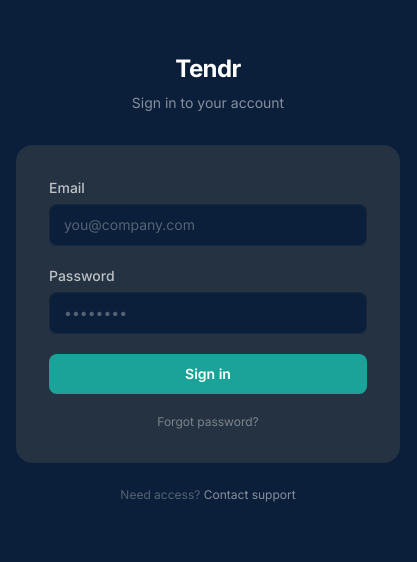
LoginPage › shows a generic error and re-enables the button when signInWithPassword throws
In the field labelled "Email": (208, 225) [49,204,367,246], type "admin@example.com"
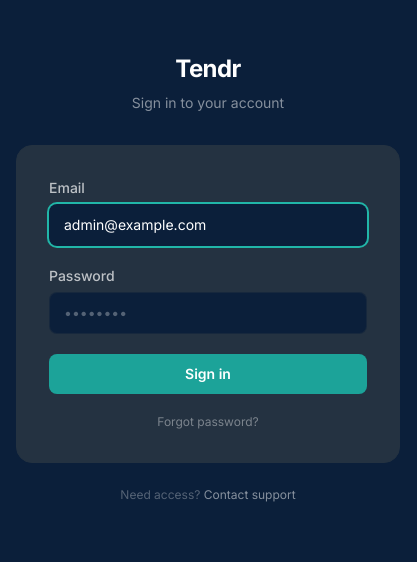
In the password field labelled "Password": (208, 313) [49,292,367,334], type "password123"
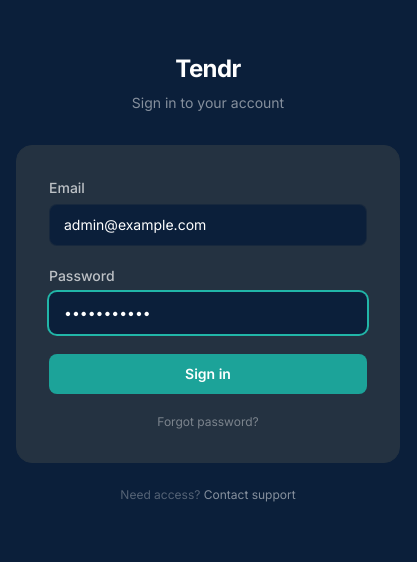
Click the button "Sign in": click(208, 374) [49,354,367,394]
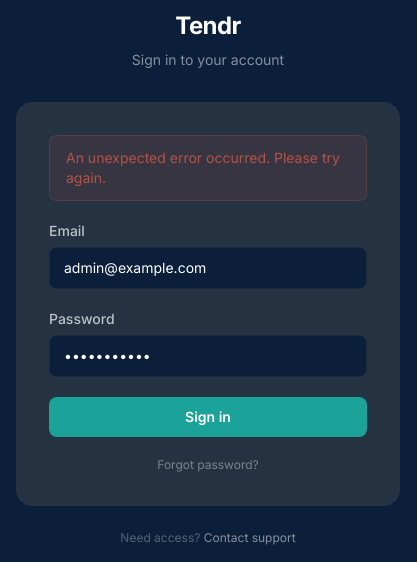
Check: the button "Sign in" is enabled, box [49,397,367,437]
Check: the text "An unexpected error occurred. Please try again." is shown, box [49,135,367,201]
